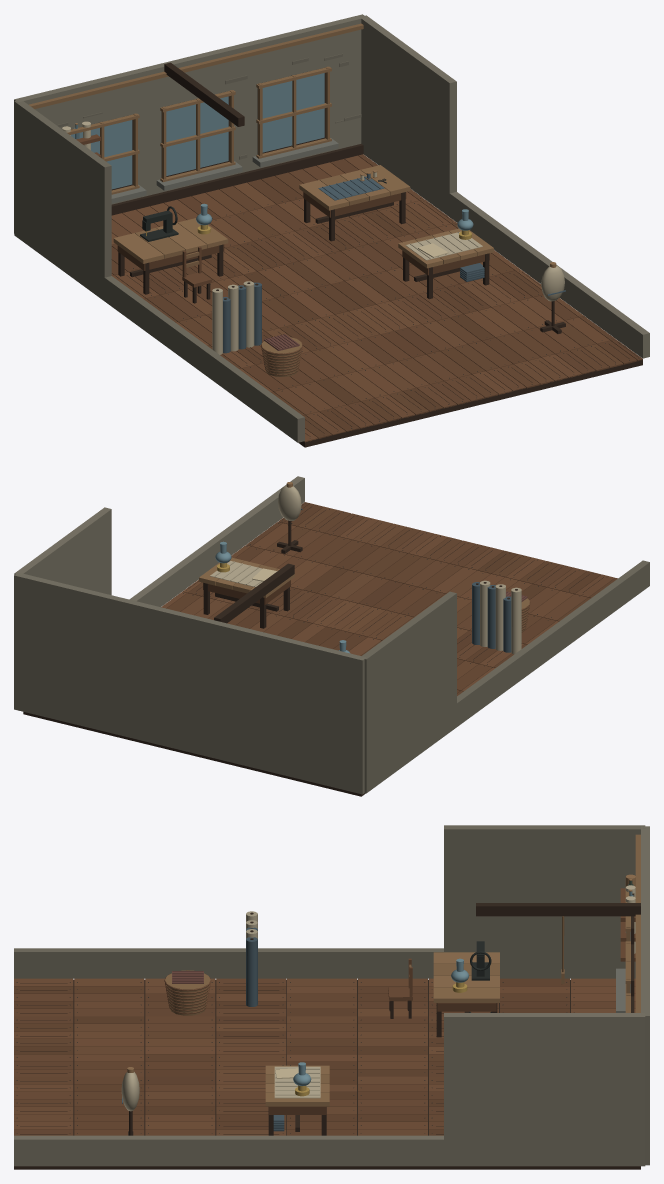
File: shaw-workshop.glb
The picture shows the model from 3 angles, top to bottom: view 1: azimuth 30°, elevation 25°; view 2: azimuth 150°, elevation 25°; view 3: azimuth 270°, elevation 25°; orthographic projection. The views are drawn at different scales.
Visible parts, largest first — view 1: shaw-workshop-wood, shaw-workshop-plaster, shaw-workshop-woodLight, shaw-workshop-woodDark, shaw-workshop-glass, shaw-workshop-linen, shaw-workshop-blue, shaw-workshop-stone, shaw-workshop-iron; view 2: shaw-workshop-plaster, shaw-workshop-wood, shaw-workshop-woodDark, shaw-workshop-linen, shaw-workshop-blue, shaw-workshop-woodLight; view 3: shaw-workshop-plaster, shaw-workshop-wood, shaw-workshop-woodDark, shaw-workshop-woodLight, shaw-workshop-linen, shaw-workshop-blue, shaw-workshop-iron, shaw-workshop-glass.
Boxes of the visible parts, x1,y1,x2,y2 form: shaw-workshop-wood: (76,134,642,442); shaw-workshop-plaster: (14,14,649,442); shaw-workshop-woodLight: (29,23,556,376); shaw-workshop-woodDark: (111,62,642,447); shaw-workshop-glass: (71,73,473,230); shaw-workshop-linen: (62,121,564,354); shaw-workshop-blue: (223,174,565,353); shaw-workshop-stone: (111,138,338,203); shaw-workshop-iron: (133,178,639,438); shaw-workshop-plaster: (14,476,649,794); shaw-workshop-wood: (161,502,617,695); shaw-workshop-woodDark: (23,504,603,796); shaw-workshop-linen: (210,485,521,654); shaw-workshop-blue: (301,508,511,652); shaw-workshop-woodLight: (199,482,529,631); shaw-workshop-plaster: (14,825,649,1166); shaw-workshop-wood: (14,888,635,1135); shaw-workshop-woodDark: (14,893,640,1169); shaw-workshop-woodLight: (127,834,640,1106); shaw-workshop-linen: (121,885,635,1111); shaw-workshop-blue: (122,927,284,1131); shaw-workshop-iron: (16,941,574,1133); shaw-workshop-glass: (293,891,633,1086).
Bounding box in the file's own units: 9.9 × 3.85 × 13.9.
